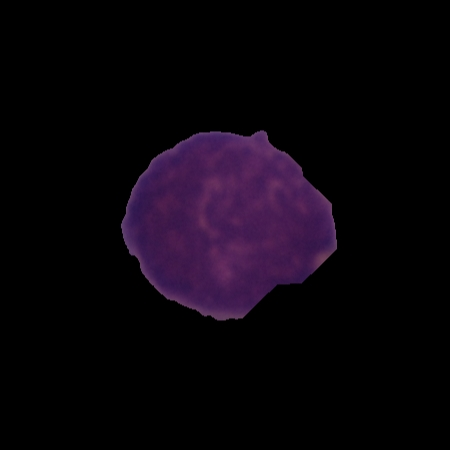HEM: (117, 125, 341, 324)
